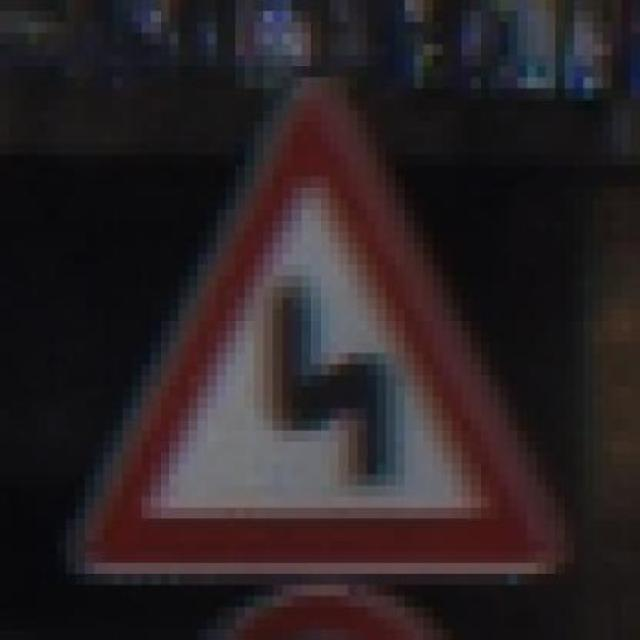Left Zig Zag Traffic: (76, 77, 564, 585)
